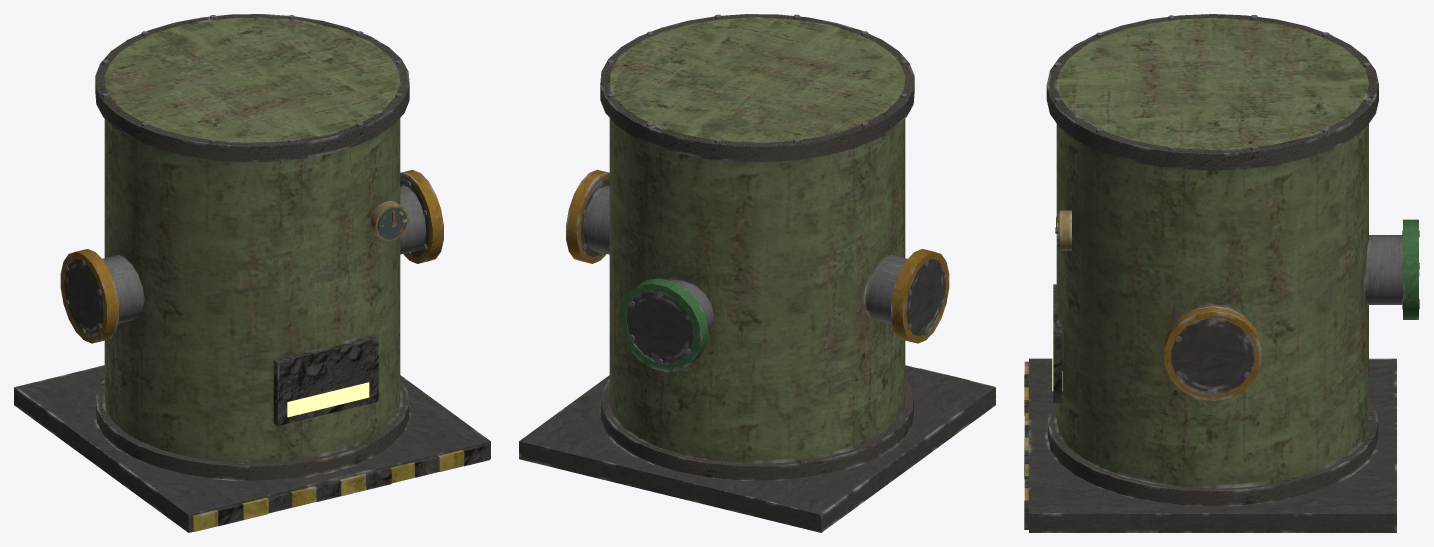
File: feDistillTower_HD.fbx
3 renders of one model, left to right at view 1: azimuth 30°, elevation 25°; view 2: azimuth 150°, elevation 25°; view 3: azimuth 270°, elevation 25°, orthographic. The views are drawn at different scales.
Visible parts, largest first — view 1: feDistillTower_Base; view 2: feDistillTower_Base; view 3: feDistillTower_Base.
Boxes of the visible parts, bbox=[...] form: feDistillTower_Base: bbox=[14, 14, 490, 532]; feDistillTower_Base: bbox=[519, 14, 995, 532]; feDistillTower_Base: bbox=[1024, 14, 1419, 532].
Size of the model in its own units: 1.01 by 1.01 by 0.9675.
2 materials, 1 textured.
